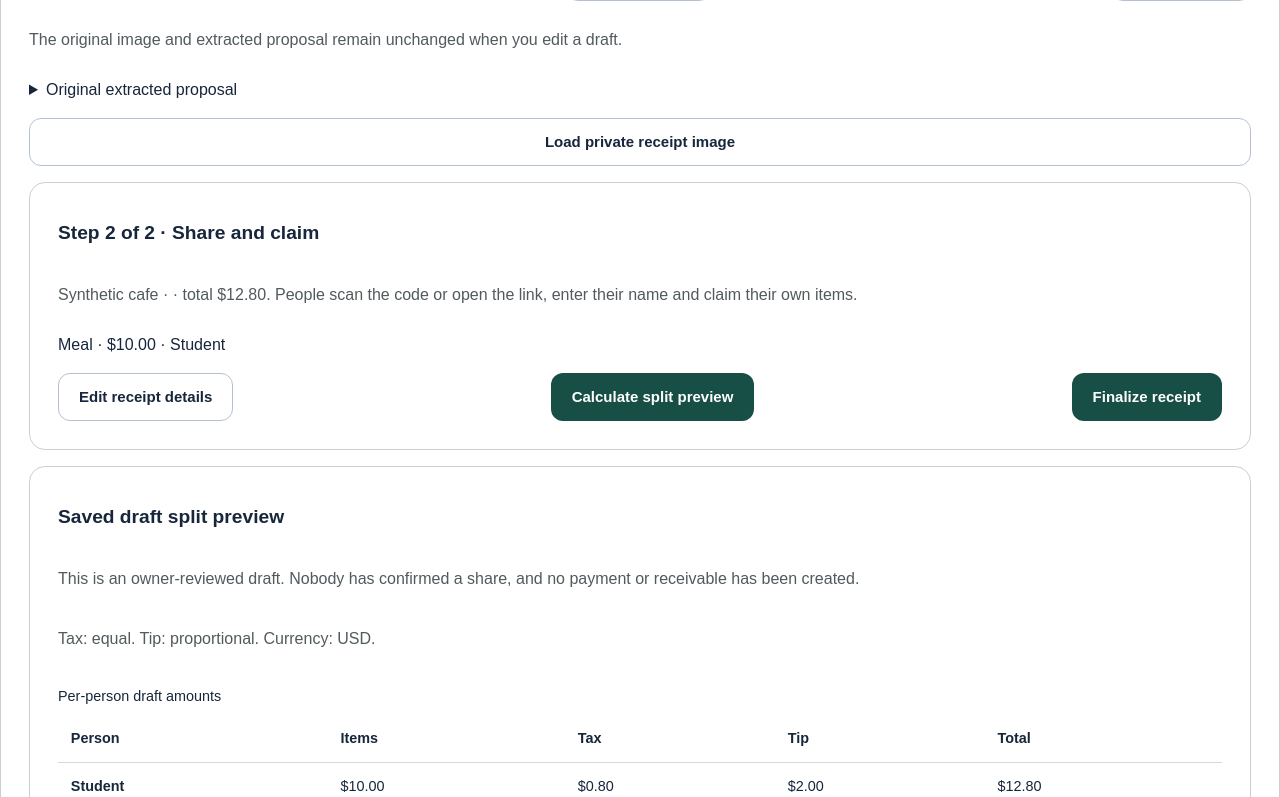
Test case: owner receipt review › loads a proposal, sends corrected draft/version and renders only the backend preview
(page scrolled)
Expected: the heading "Saved draft split preview" is shown, [58, 506, 284, 527]
Expected: the text "Nobody has confirmed" is shown, [58, 570, 859, 587]
Click the button "Edit receipt details" at (146, 397), box [58, 373, 233, 421]
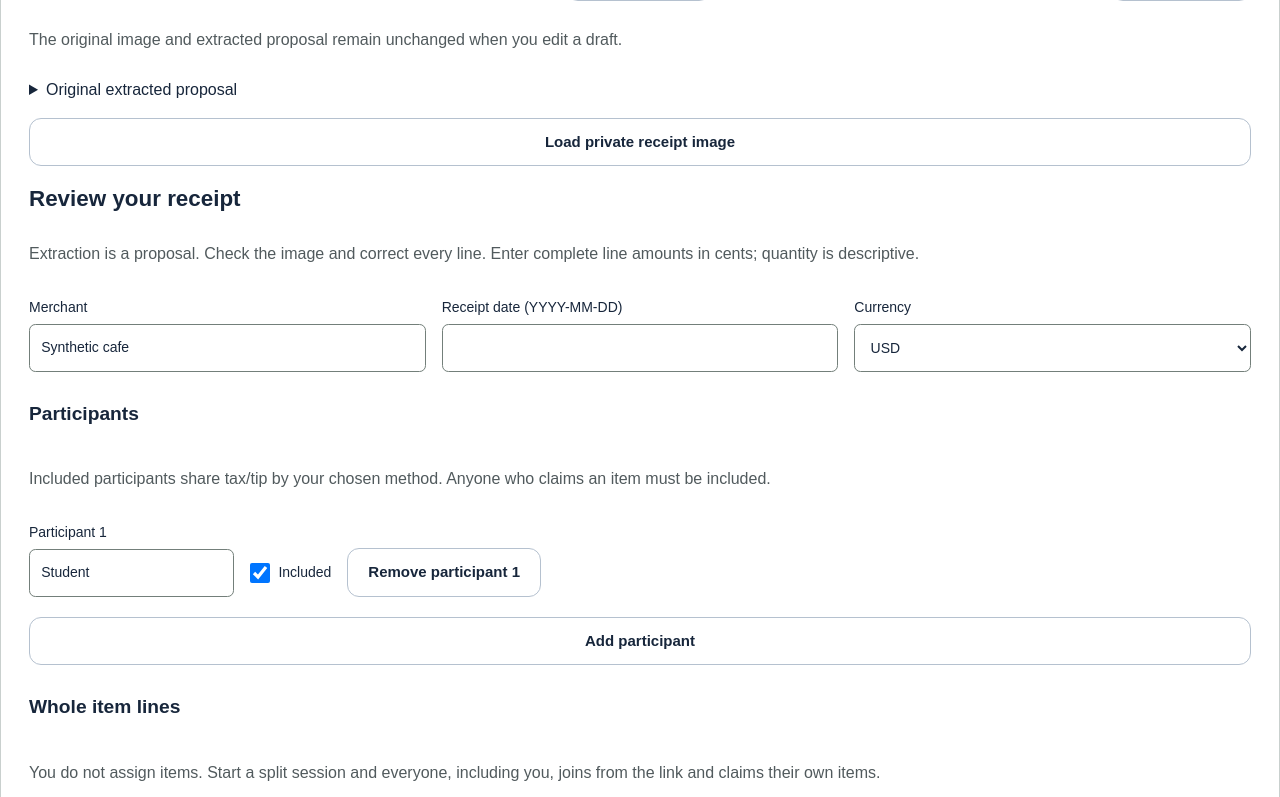
Replace the text in the field labelled "Merchant" with "Reviewed cafe" at (227, 348), box [29, 324, 426, 372]
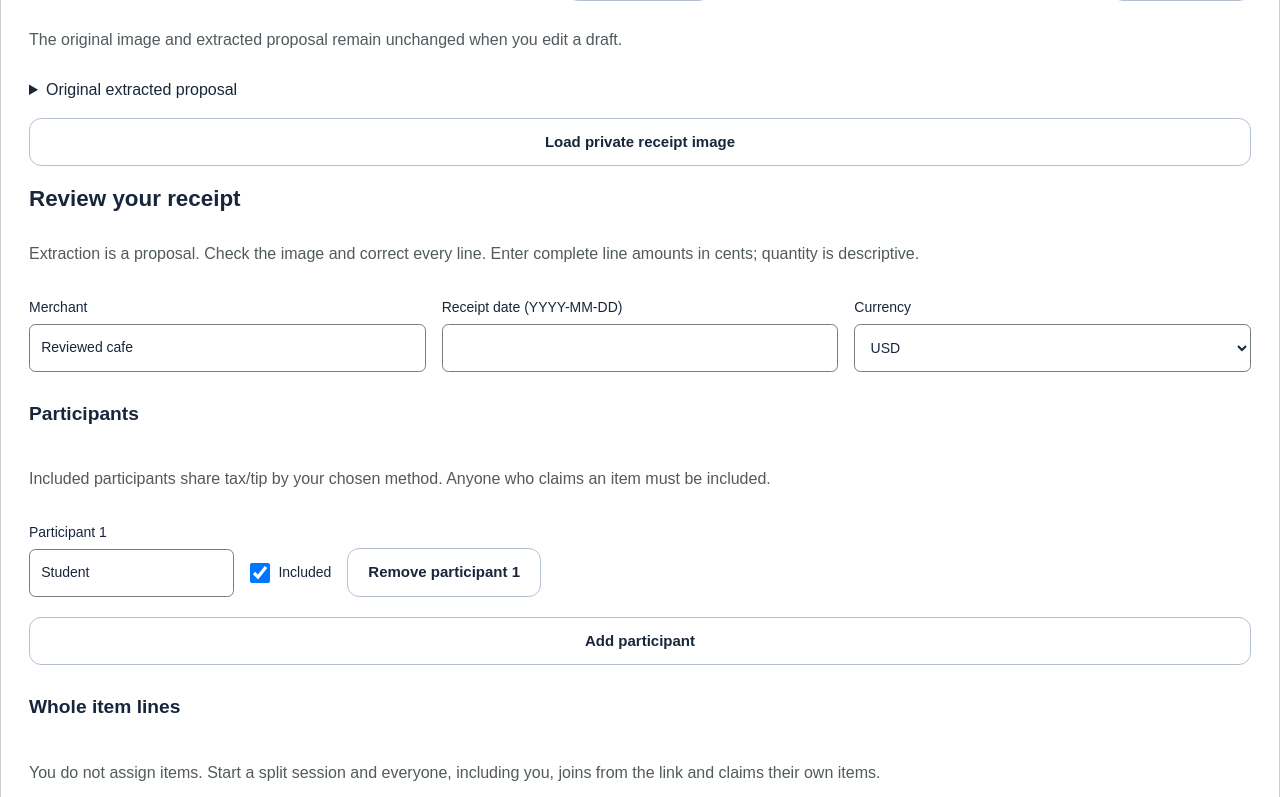
Type "2026-10-15" into the field labelled "Receipt date (YYYY-MM-DD)" at (640, 348), box [442, 324, 838, 372]
(page scrolled)
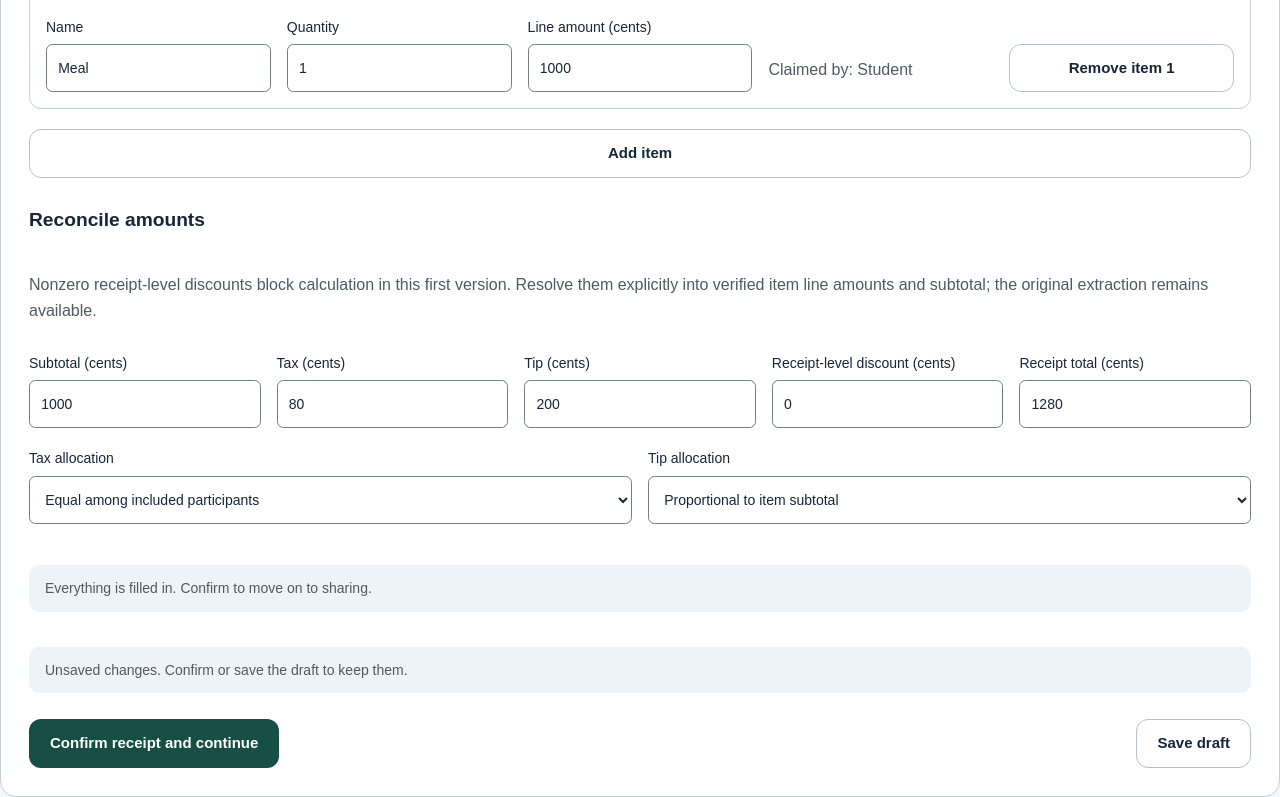
Click the button "Confirm receipt and continue" at (154, 743), box [29, 719, 279, 768]
(page scrolled)
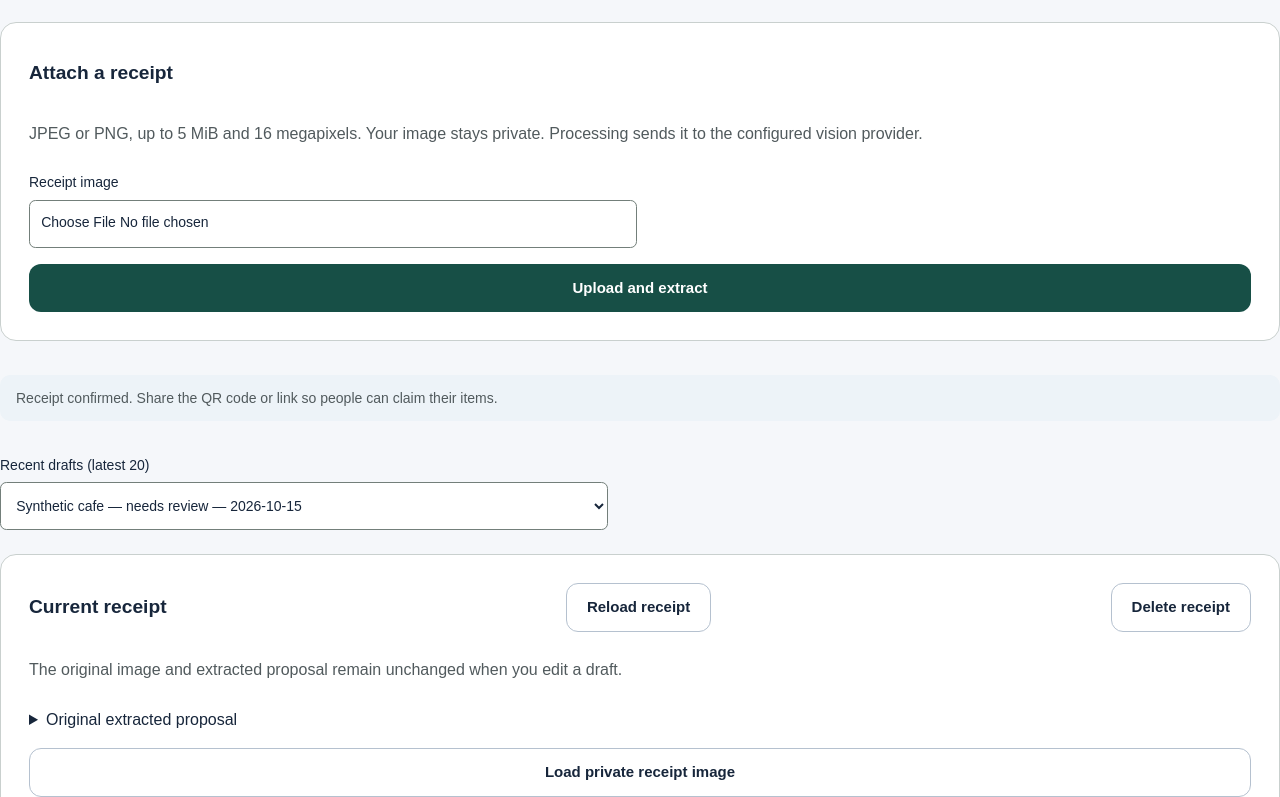
Expected: the text "Receipt confirmed. Share the QR code or link so people can claim their items." is shown, [0, 375, 1279, 421]
